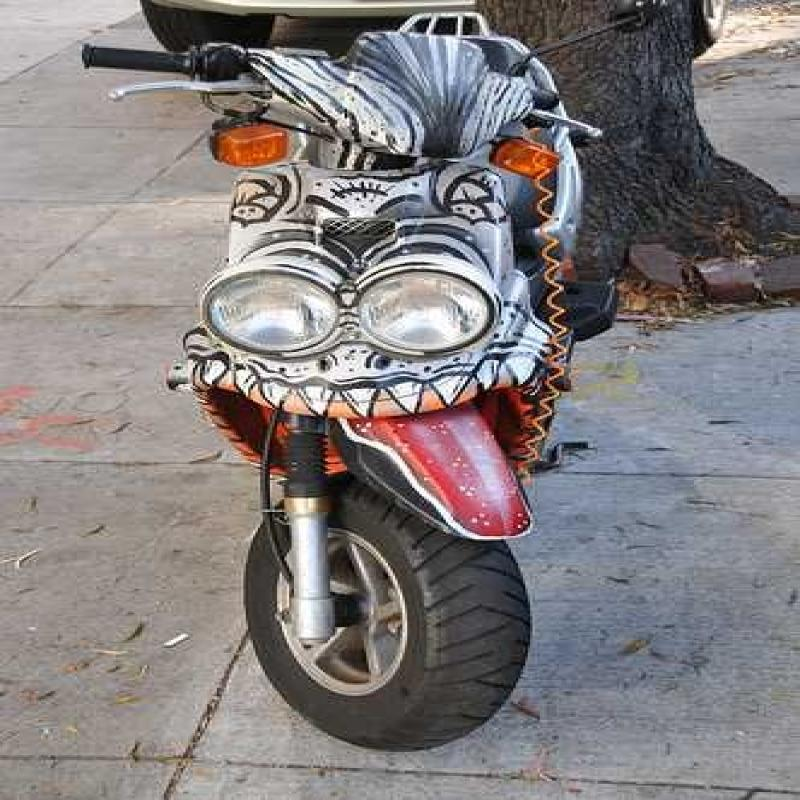bike: (62, 29, 649, 730)
